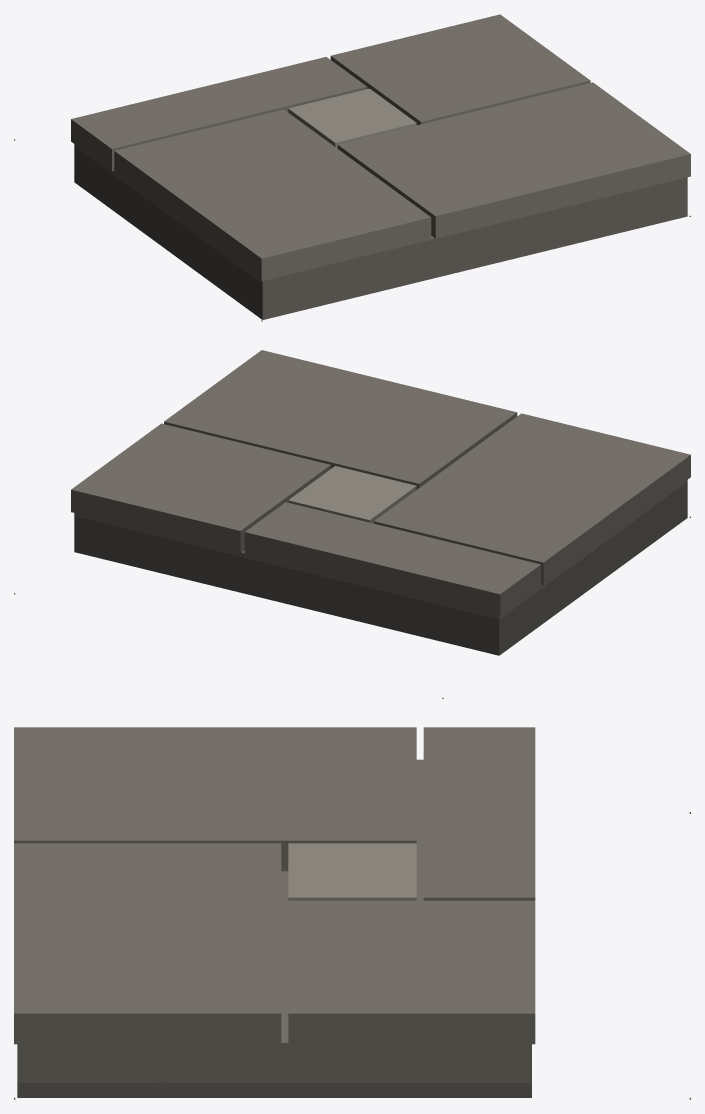
The model's file is floor_stone_tee.glb.
3 renders of one model, top to bottom at view 1: azimuth 30°, elevation 25°; view 2: azimuth 150°, elevation 25°; view 3: azimuth 270°, elevation 25°, orthographic. The views are drawn at different scales.
Size of the model in its own units: 1 by 0.14 by 1.
Materials: 1 (1 with a texture image).
